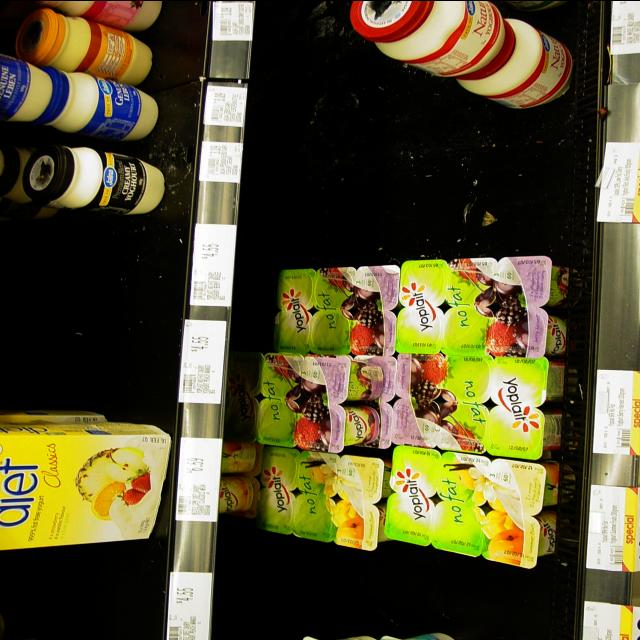empty_space: (288, 117, 570, 236), (10, 220, 164, 395), (272, 560, 497, 620), (7, 553, 145, 640)
